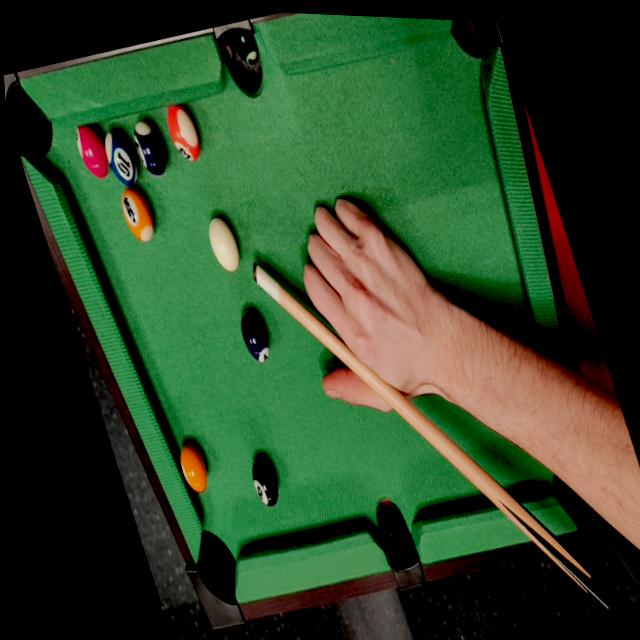cue ball: (198, 208, 246, 279)
other: (95, 119, 145, 193), (114, 181, 163, 251), (67, 115, 118, 182), (159, 97, 206, 164), (126, 110, 172, 177), (173, 439, 216, 498), (235, 309, 275, 368), (246, 454, 284, 510)
